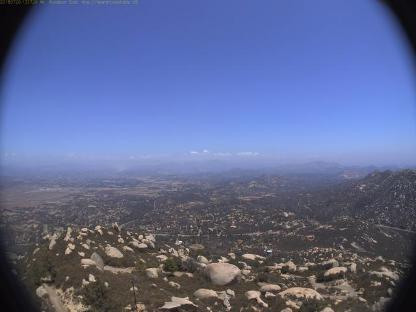smoke: (334, 164, 376, 180)
